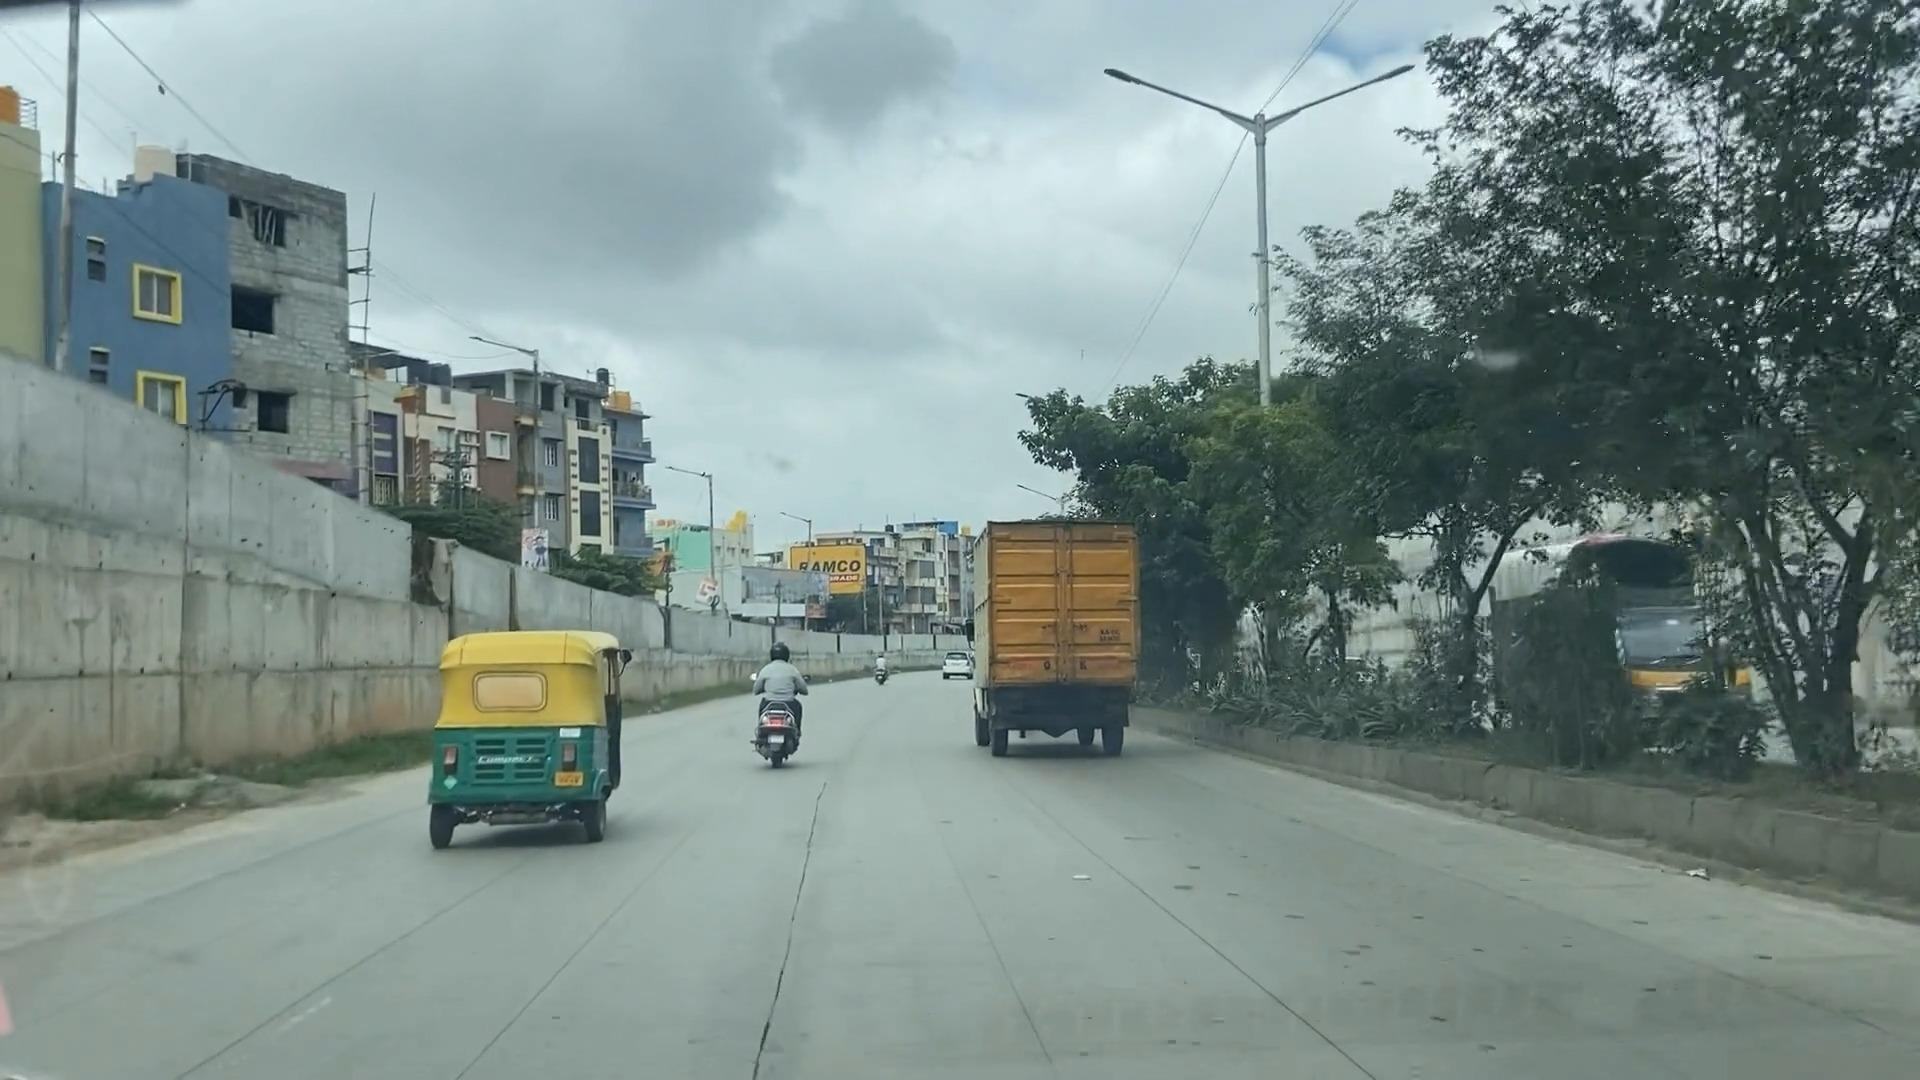HMV: (1464, 509, 1764, 761), (949, 484, 1163, 795)
